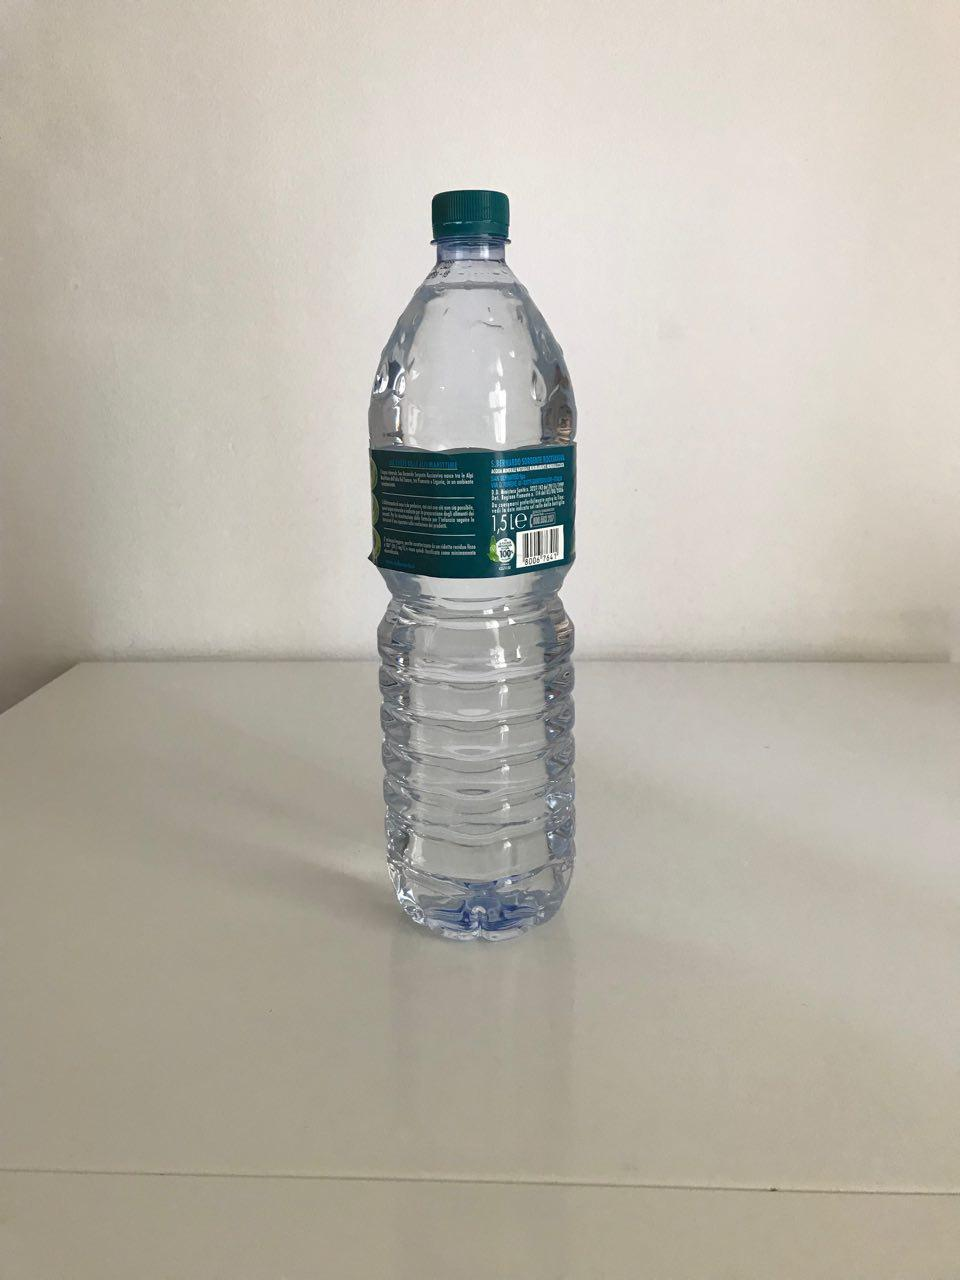san_bernardo: (366, 188, 579, 945)
